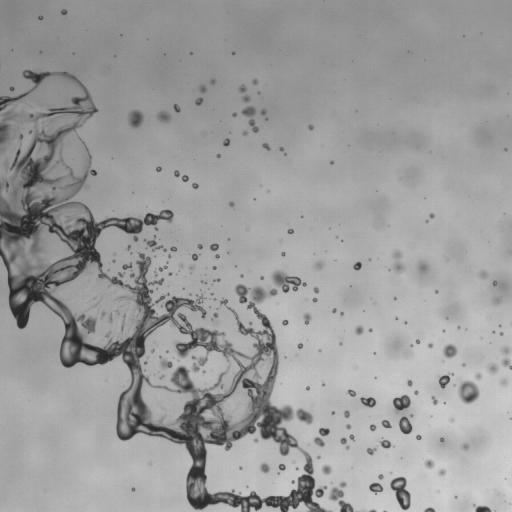droplet: (0, 109, 26, 149), (328, 482, 356, 511), (271, 270, 306, 292), (457, 380, 479, 403), (393, 394, 410, 411), (128, 110, 143, 128), (314, 428, 329, 446), (399, 416, 412, 434), (438, 372, 451, 388), (443, 344, 457, 358), (159, 356, 172, 369), (100, 310, 113, 322), (369, 482, 382, 494), (360, 397, 375, 407), (157, 111, 170, 122), (380, 438, 392, 448), (487, 363, 498, 373), (502, 357, 511, 369), (424, 459, 434, 468), (0, 179, 8, 190), (260, 463, 269, 472), (322, 465, 331, 474), (314, 261, 324, 269), (355, 325, 363, 335), (381, 420, 391, 428), (367, 446, 377, 454), (304, 313, 311, 324), (210, 243, 218, 251), (353, 262, 361, 270), (502, 346, 510, 354), (347, 389, 355, 397), (195, 97, 202, 105), (173, 104, 180, 112), (480, 271, 487, 279), (239, 85, 246, 92), (262, 143, 269, 150), (493, 298, 500, 305), (500, 378, 507, 385), (461, 443, 468, 450), (223, 138, 229, 146), (212, 312, 218, 320), (431, 396, 437, 404), (438, 469, 446, 475), (200, 85, 206, 92), (243, 95, 249, 102), (192, 253, 198, 260), (475, 372, 481, 379), (370, 424, 376, 431), (278, 464, 285, 470), (344, 410, 349, 417), (261, 109, 266, 115), (192, 183, 198, 188), (170, 246, 176, 251), (419, 264, 425, 269), (313, 287, 318, 293), (282, 320, 288, 325), (407, 380, 412, 386), (61, 9, 66, 14), (252, 79, 257, 84), (308, 124, 313, 129), (156, 166, 161, 171), (429, 213, 434, 218), (197, 244, 202, 249), (297, 343, 302, 348), (428, 343, 433, 348), (346, 424, 351, 429), (378, 474, 383, 479), (287, 229, 293, 233), (9, 86, 14, 90), (229, 202, 234, 206), (350, 435, 354, 440), (416, 435, 421, 439), (211, 79, 215, 83), (232, 113, 236, 117), (243, 131, 247, 135), (279, 147, 283, 151), (281, 252, 285, 256), (215, 254, 219, 258), (313, 298, 317, 302), (332, 308, 336, 312), (416, 339, 420, 343), (414, 390, 418, 394), (253, 438, 257, 442), (127, 246, 130, 251), (493, 280, 496, 285), (114, 311, 119, 314), (190, 265, 193, 269), (215, 278, 219, 281), (440, 438, 444, 441), (131, 488, 135, 491), (39, 16, 42, 19), (330, 161, 333, 164), (119, 296, 122, 299), (369, 328, 372, 331), (500, 332, 503, 335), (151, 349, 154, 352), (160, 375, 163, 378), (217, 154, 219, 157), (179, 264, 182, 266), (213, 266, 215, 269), (169, 272, 171, 275), (340, 313, 343, 315), (457, 326, 460, 328), (306, 387, 309, 389), (162, 407, 165, 409), (450, 419, 453, 421), (5, 162, 7, 164), (168, 255, 170, 257), (203, 281, 205, 283), (435, 290, 437, 292), (144, 361, 146, 363), (322, 383, 324, 385), (332, 411, 334, 413), (317, 456, 319, 458), (239, 467, 241, 469), (296, 467, 298, 469)
ligament: (0, 70, 331, 511), (390, 476, 410, 511), (242, 106, 258, 132), (144, 237, 166, 251), (392, 251, 404, 272), (174, 170, 188, 181), (473, 505, 492, 511), (91, 297, 102, 307), (340, 437, 349, 448), (157, 265, 167, 271), (121, 315, 125, 330), (424, 507, 435, 511), (359, 509, 376, 511), (383, 510, 386, 511)
